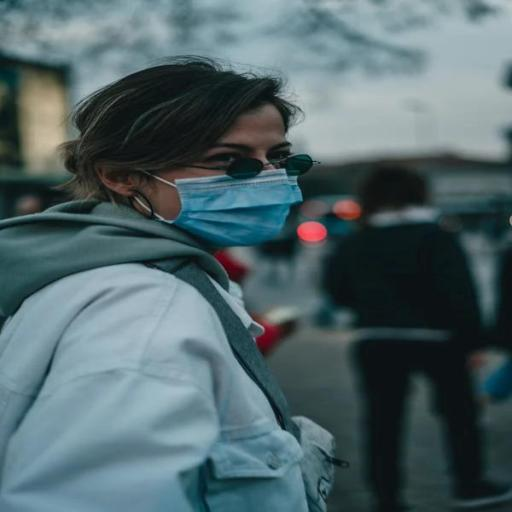mask: (96, 88, 335, 260)
